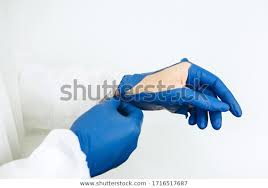defected: (120, 53, 228, 152)
